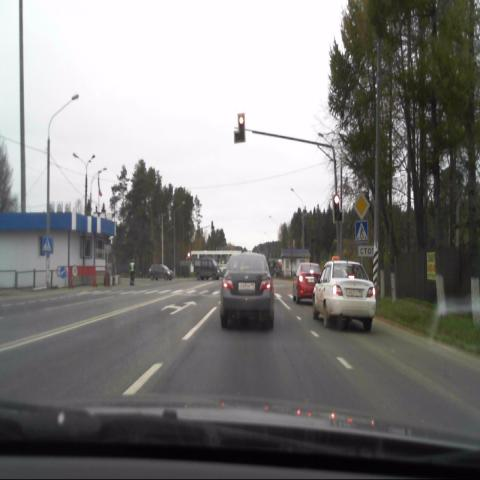2_1: (354, 192, 369, 219)
5_19_1: (355, 221, 368, 241), (42, 236, 52, 254)
6_16: (358, 246, 376, 257)
